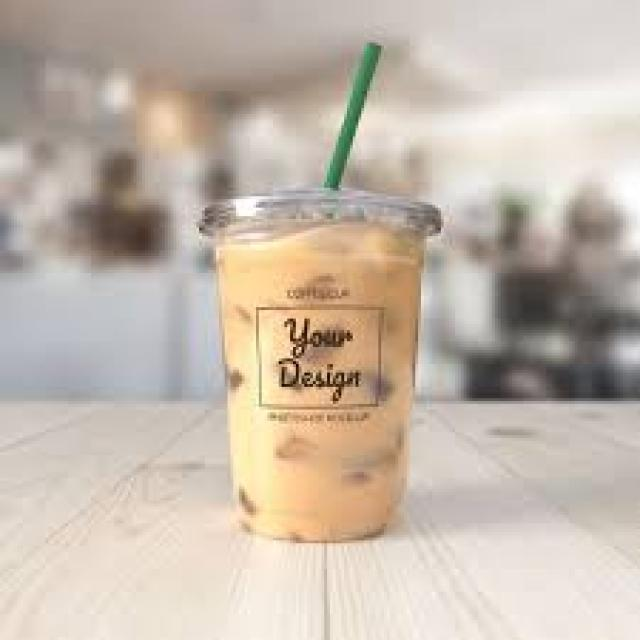bottle: (218, 222, 424, 541)
